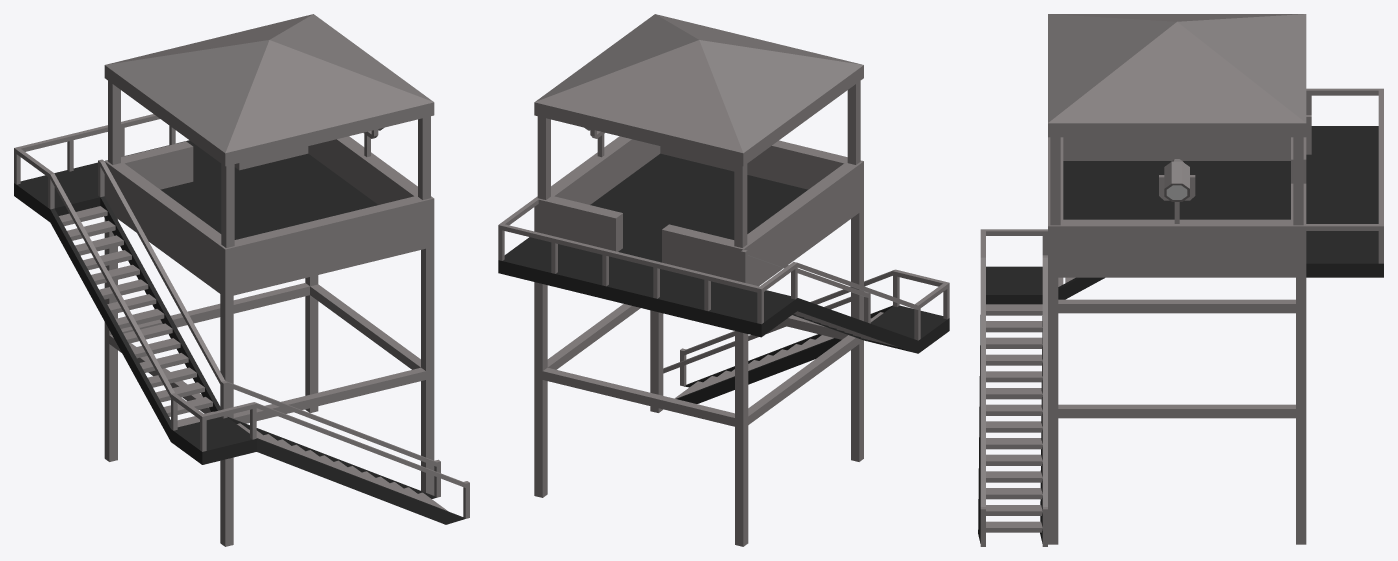
The model's file is military-tower.glb.
3 views of the same model, side by side, from view 1: azimuth 30°, elevation 25°; view 2: azimuth 150°, elevation 25°; view 3: azimuth 270°, elevation 25° (orthographic). The views are drawn at different scales.
Parts seen in each view (by area): view 1: military-tower; view 2: military-tower; view 3: military-tower.
Boxes of the visible parts, x1,y1,x2,y2 form: military-tower: (14, 14, 469, 546); military-tower: (498, 14, 949, 546); military-tower: (978, 14, 1383, 546).
Size of the model in its own units: 6.56 by 10 by 7.85.
1 material, 1 textured.
